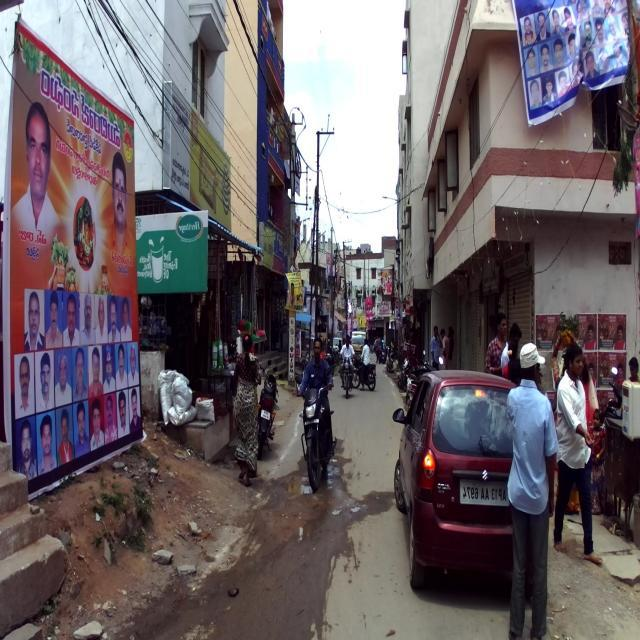Drain Hole: (605, 524, 640, 589)
Pothole: (271, 452, 351, 540)
